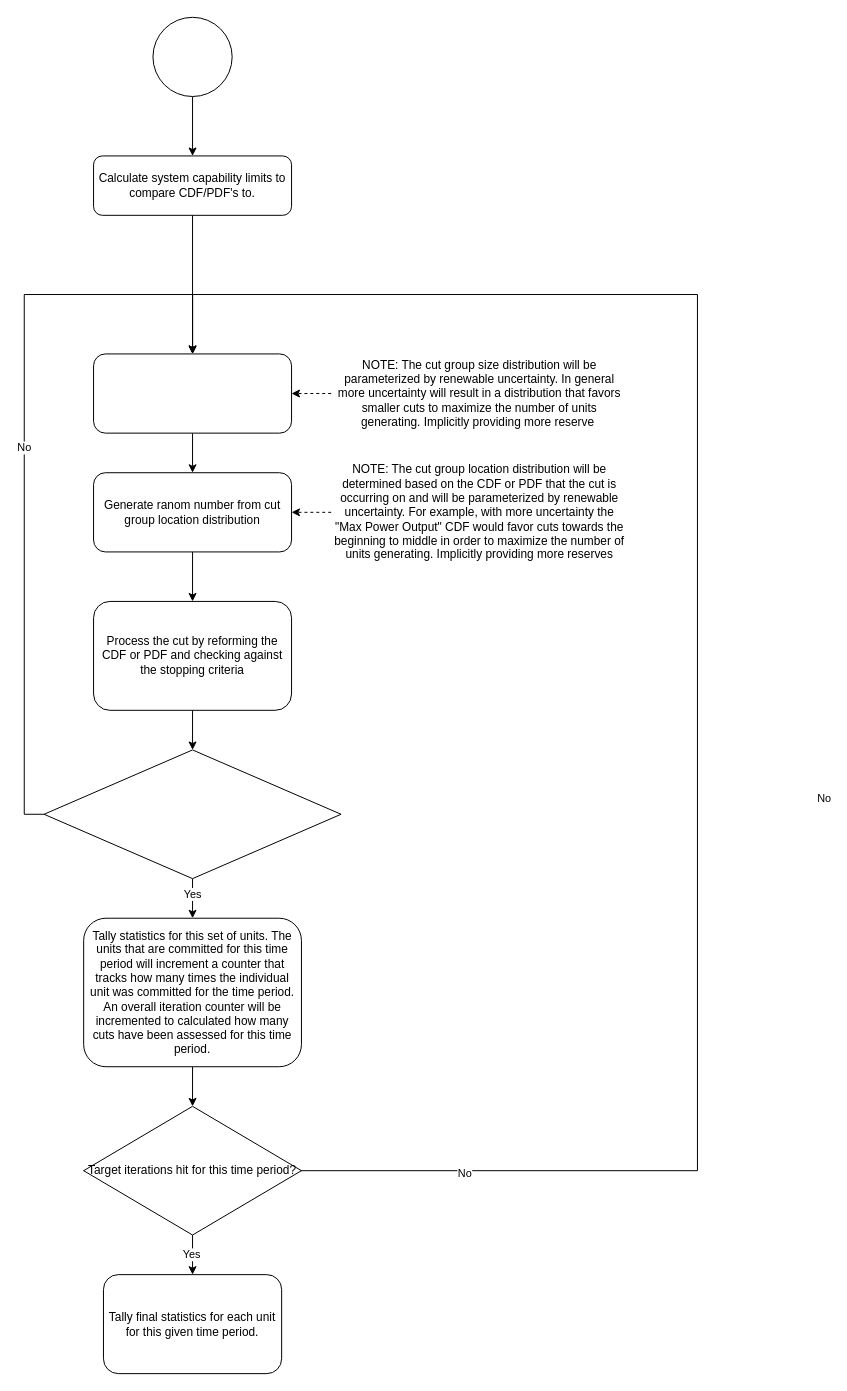
Image size: 847x1391. Some labels were removed from this diagram. The centre of each missing label's shape, as x and y in pixels:
"Generate random number from cut group size distribution" belongs at pixel 192 393.
"Is the stopping criteria met?" belongs at pixel 192 814.
"Start Here" belongs at pixel 192 56.
